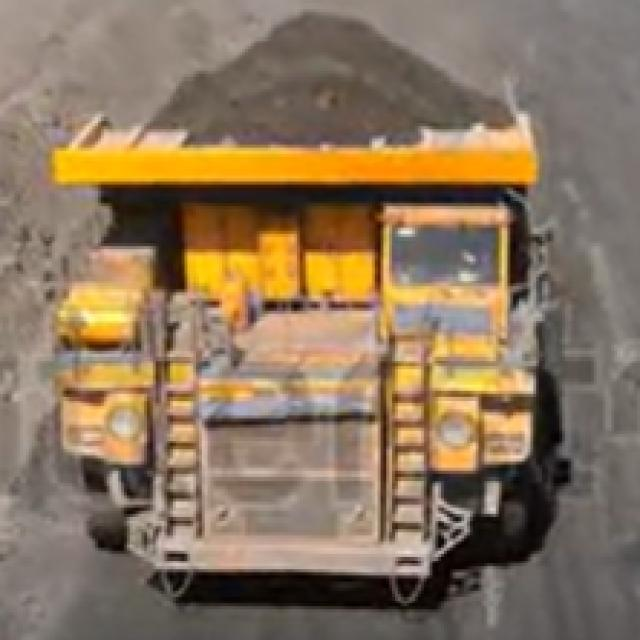uncovered: (70, 9, 618, 554)
